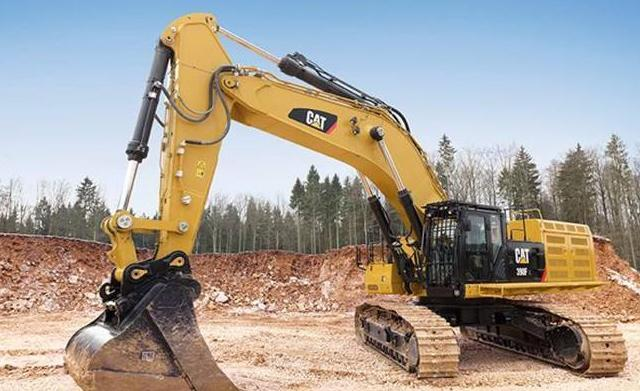excavator: (117, 11, 592, 323)
